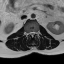CCS_normal: (31, 30, 33, 39)
LFS_normal: (35, 30, 37, 35)
LLS_normal: (33, 30, 35, 36)
RFS_normal: (27, 30, 29, 37)
RLS_normal: (29, 30, 31, 36)
